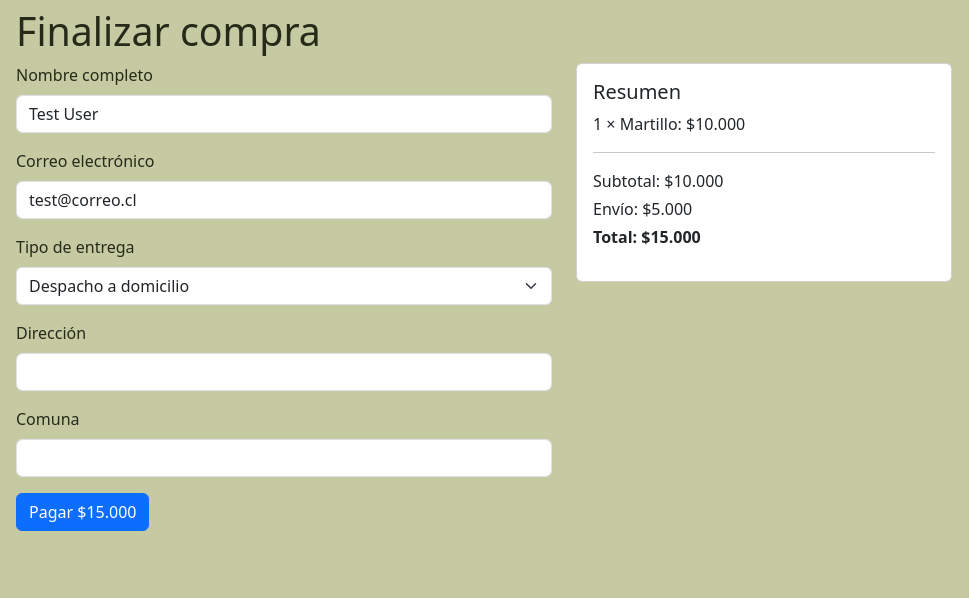
Test: CheckoutPage › prefills the logged-in user and validates the shipping address
Check: the field labelled "Correo electrónico" holds "test@correo.cl", box 16,181 -> 552,219
Click the button "Pagar $15.000": (83, 512) 16,493 -> 150,531
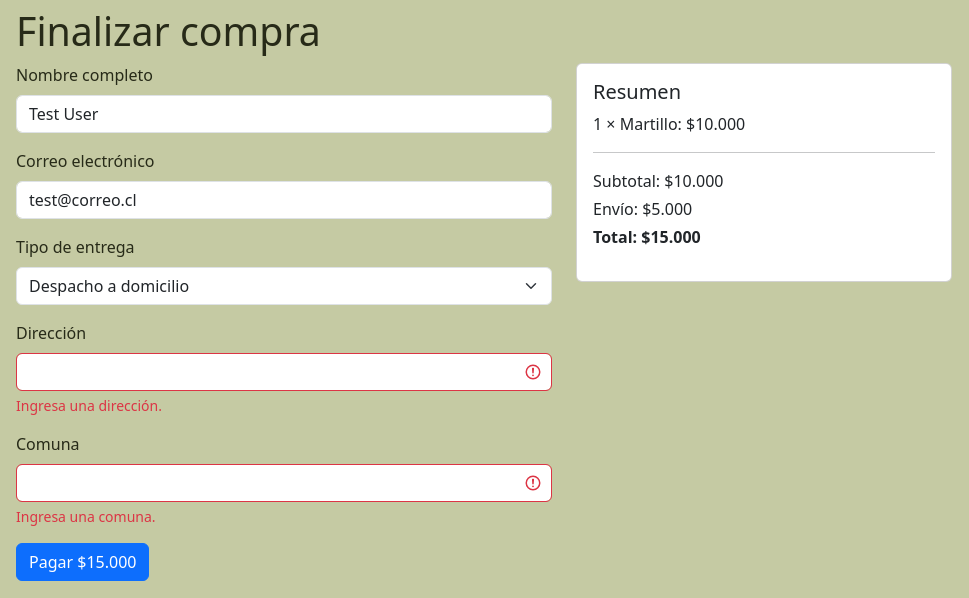
Check: the text "Ingresa una dirección." is shown, box 16,396 -> 162,415
